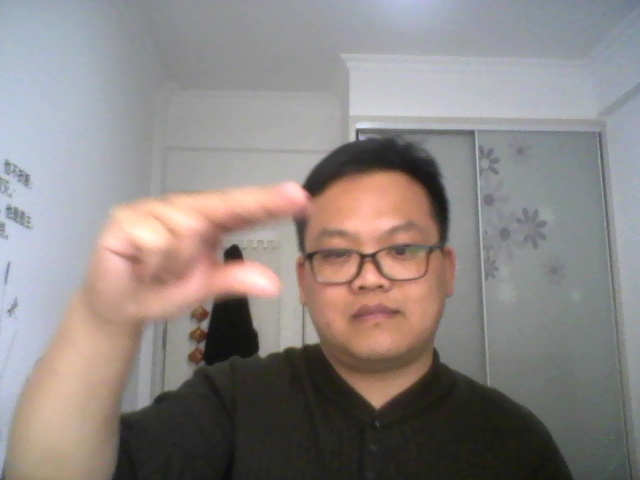No: (60, 179, 324, 332)
